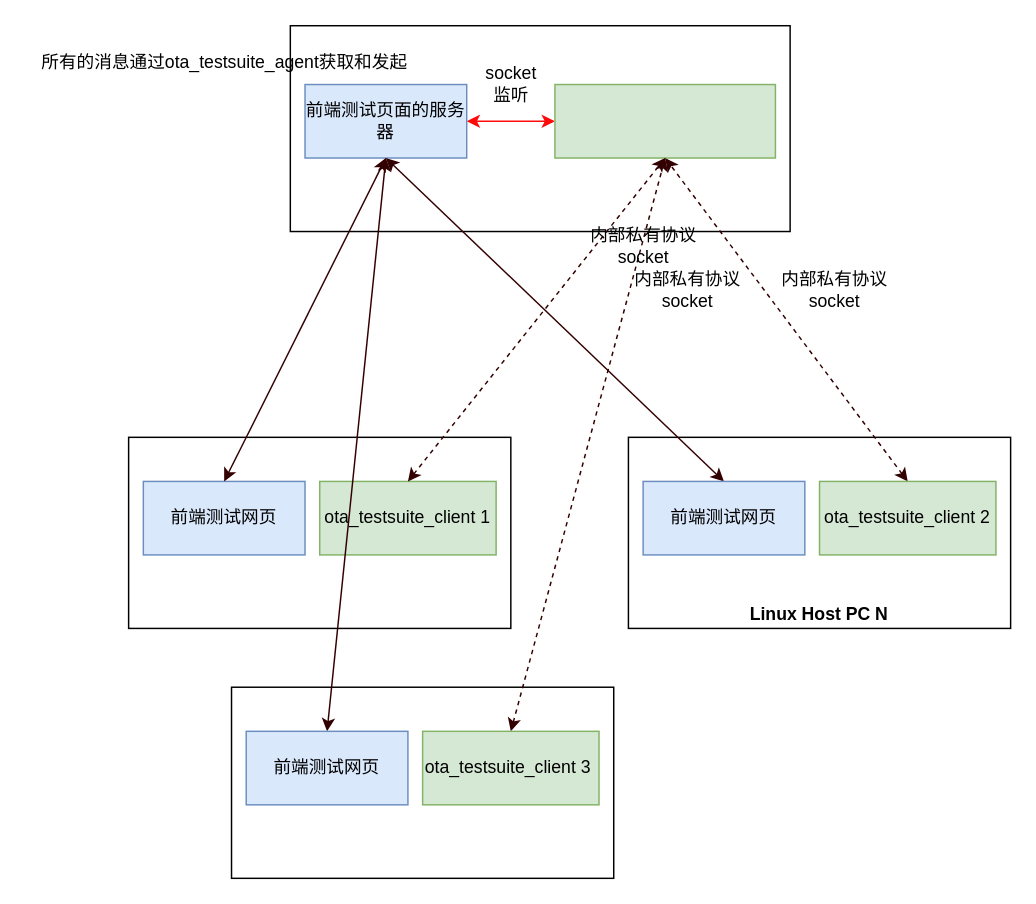
The diagram is 1036 pixels wide and 904 high, and some of its shapes have lost their labels. Here are the shapes that lost their labels. From the top down, the box of each, then its label:
(289, 24, 790, 232): Server机柜
(553, 83, 775, 158): ota_testsuite_agent （我们信息的中转站）
(127, 436, 511, 628): Linux Host PC 1
(230, 686, 614, 878): Linux Host PC 2
